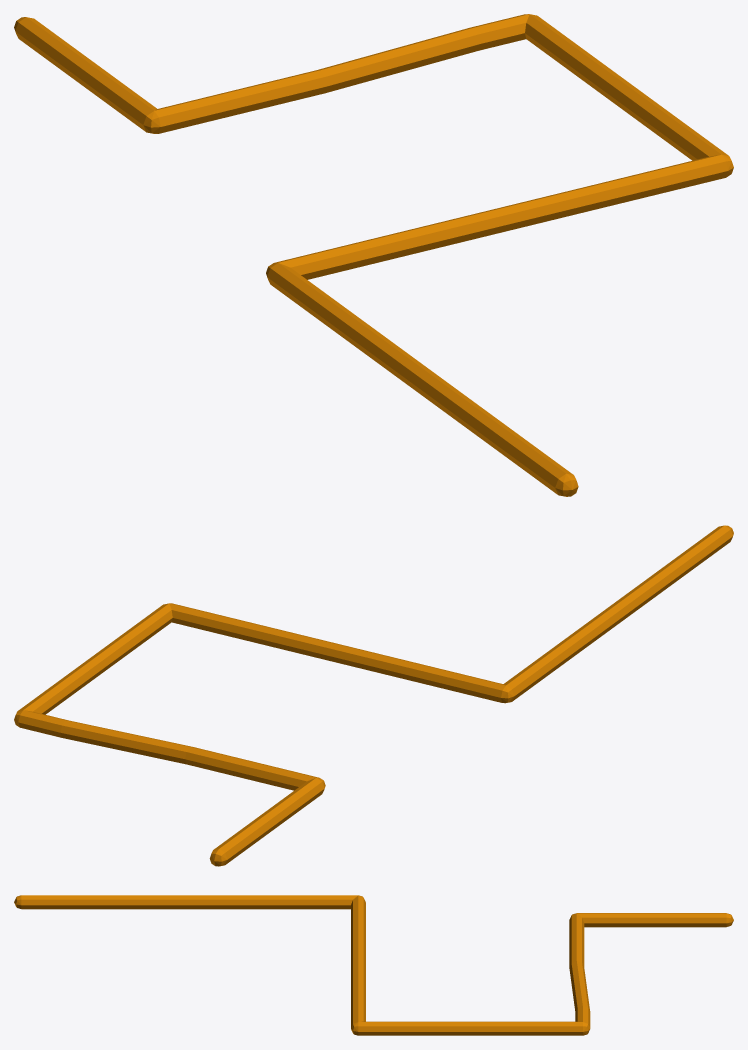
3 views of the same model, one above another, from view 1: azimuth 30°, elevation 25°; view 2: azimuth 150°, elevation 25°; view 3: azimuth 270°, elevation 25° (orthographic). The views are drawn at different scales.
Size of the model in its own units: 420 by 20 by 962.
